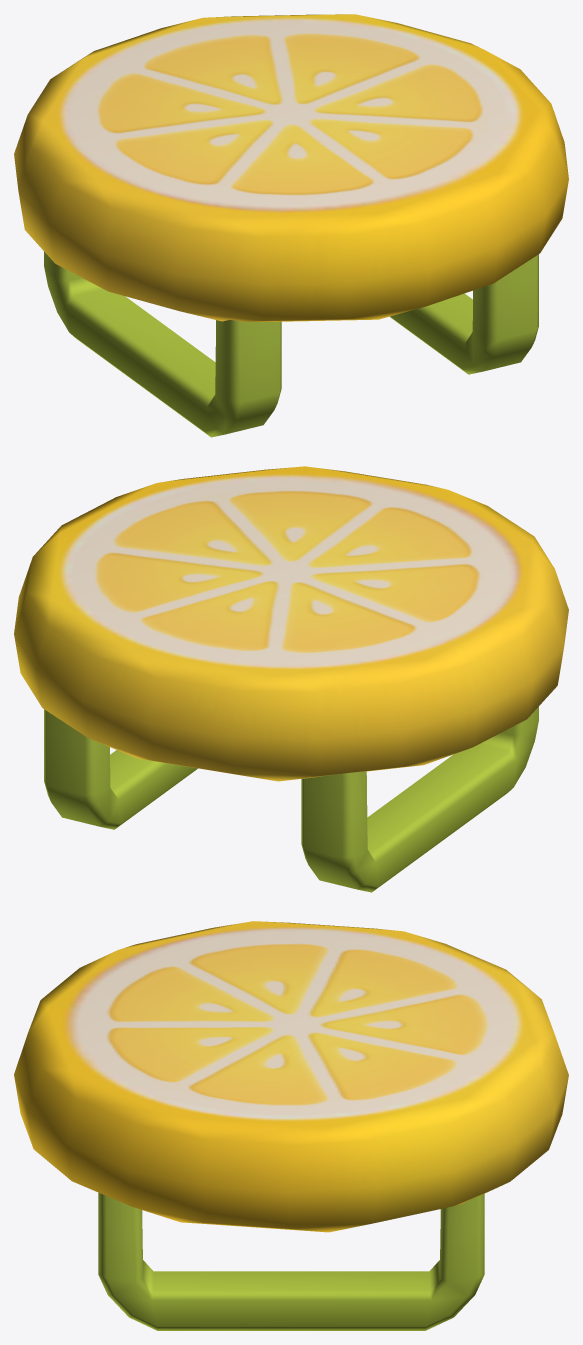
File: Homestead_nm_5.fbx
3 views of the same model, one above another, from view 1: azimuth 30°, elevation 25°; view 2: azimuth 150°, elevation 25°; view 3: azimuth 270°, elevation 25° (orthographic).
Visible parts, largest first — view 1: Homestead_nm_5; view 2: Homestead_nm_5; view 3: Homestead_nm_5.
Boxes of the visible parts, x1,y1,x2,y2 form: Homestead_nm_5: [14, 14, 568, 437]; Homestead_nm_5: [14, 466, 568, 892]; Homestead_nm_5: [14, 921, 568, 1330].
Size of the model in its own units: 74.07 by 34.6 by 74.07.
